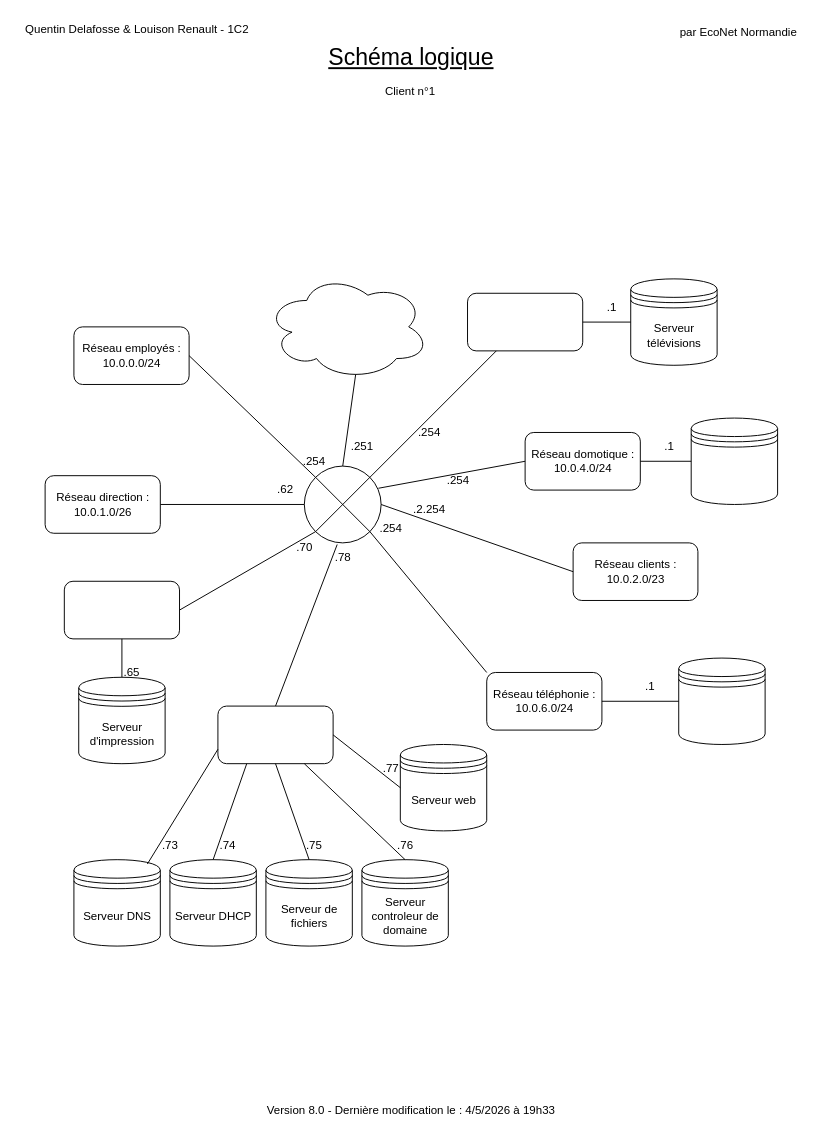
The diagram is 819 pixels wide and 1140 high, and some of its shapes have lost their labels. The centre of each missing label's shape, as x and y in pixels:
"FAI : 175.45.176.254/24" goes at (x=347, y=326).
"Réseau imprimantes : 10.0.1.64/29" goes at (x=121, y=609).
"Réseau serveur : 10.0.1.72/28" goes at (x=275, y=734).
"Réseau télévisions : 10.0.5.0/24" goes at (x=525, y=321).
"Serveur domotique" goes at (x=734, y=460).
"Serveur téléphonie" goes at (x=721, y=700).
